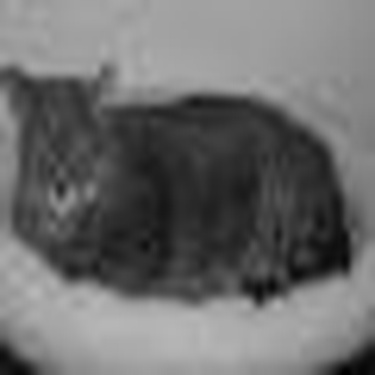cat: (1, 44, 324, 292)
